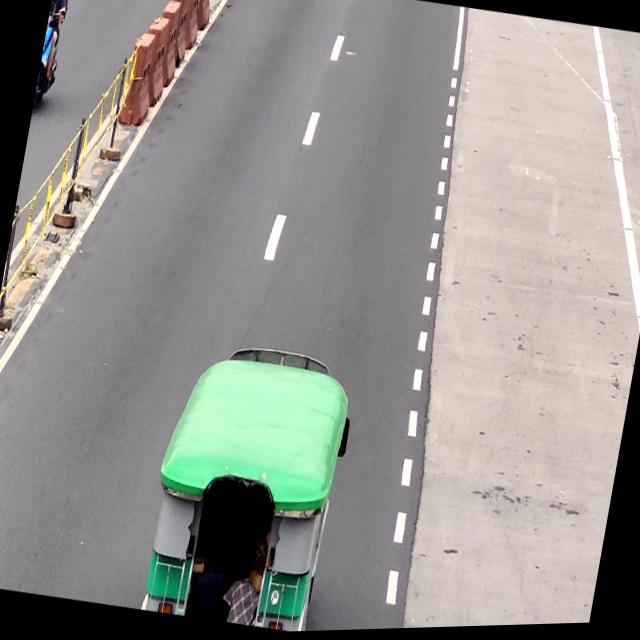Jeep: (140, 337, 356, 637)
